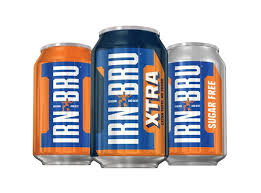can: (94, 16, 165, 181), (163, 26, 235, 175), (26, 24, 96, 171)
